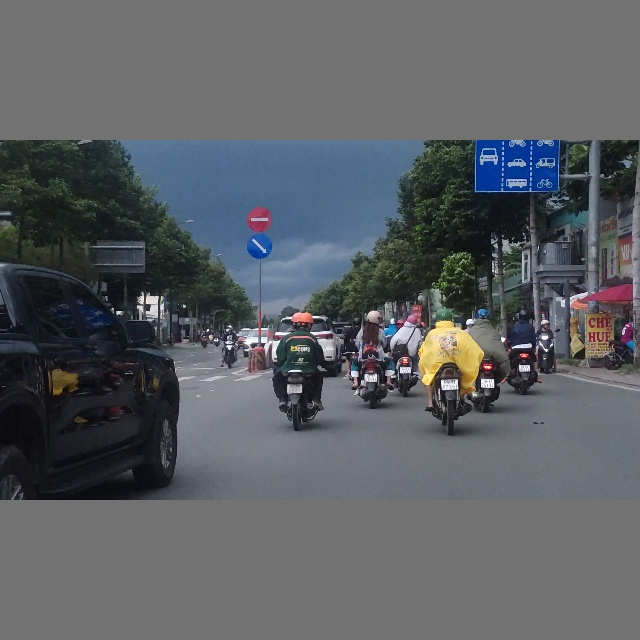P.102: (247, 206, 273, 233)
R.302a: (247, 233, 273, 259)
